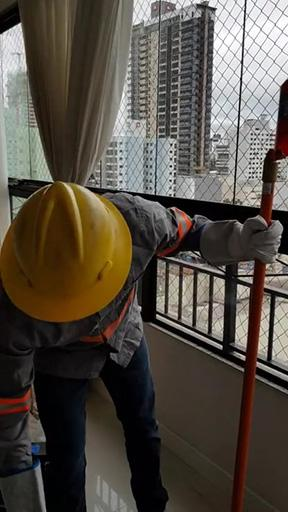Vara_Manobra: (231, 157, 279, 512)
